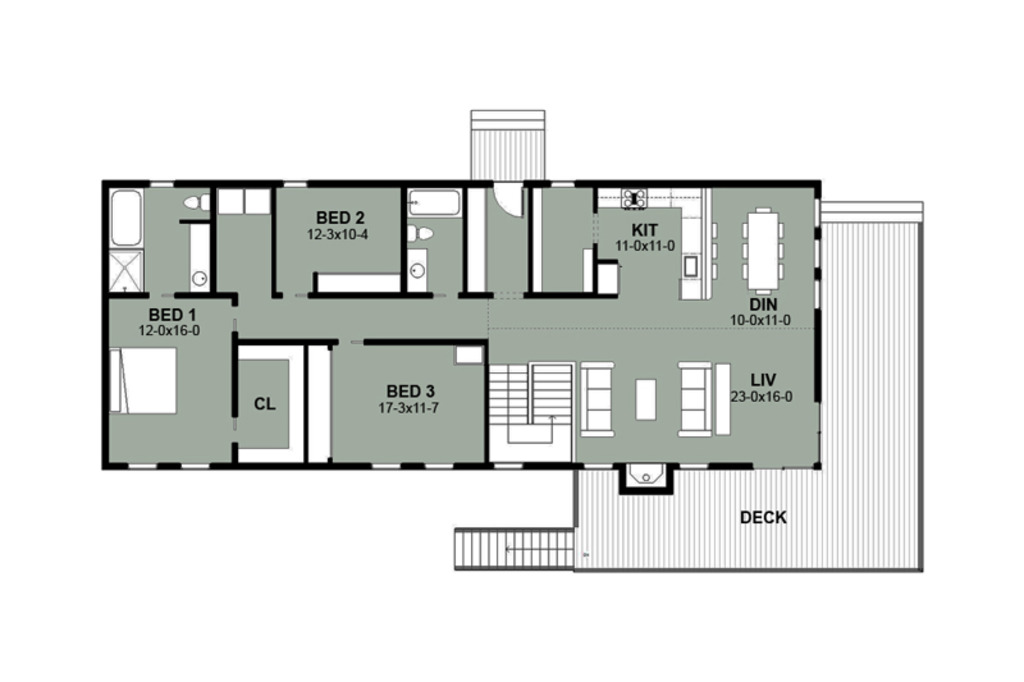bed: (112, 347, 181, 418)
dining_table: (740, 205, 788, 295)
door: (489, 180, 525, 218)
large_sink: (177, 190, 212, 213), (404, 220, 435, 245)
large_sofa: (673, 359, 715, 439), (580, 362, 617, 439)
small_sink: (406, 249, 430, 292), (190, 260, 214, 294)
stairs: (482, 357, 576, 464), (448, 524, 578, 577)
tub: (106, 187, 143, 247), (405, 189, 467, 217), (404, 218, 438, 246), (192, 190, 226, 214)
